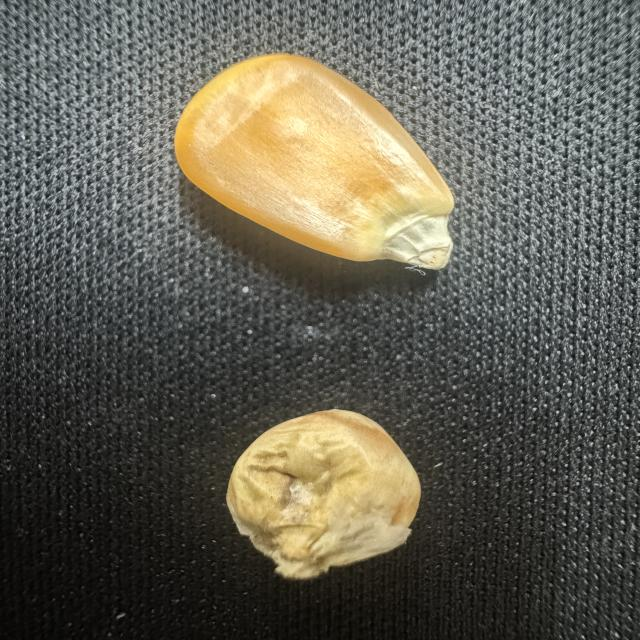Bad-Seed: (219, 401, 432, 585)
Good-Seed: (168, 47, 464, 281)
